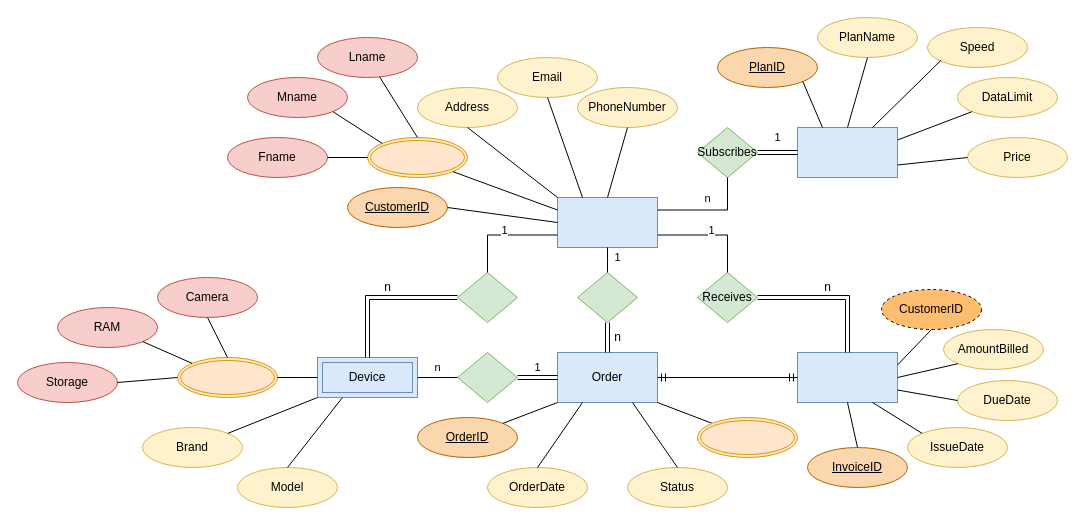
This 1085x525 diagram has some shape labels left out. The centre of each missing label's shape, as x and y in pixels:
"Contains" belongs at (x=487, y=377).
"Customer" belongs at (x=607, y=222).
"Devices" belongs at (x=747, y=437).
"Invoice" belongs at (x=847, y=377).
"Name" belongs at (x=417, y=157).
"Owns" belongs at (x=487, y=297).
"Places" belongs at (x=607, y=297).
"Plan" belongs at (x=847, y=152).
"Specification" belongs at (x=227, y=377).
